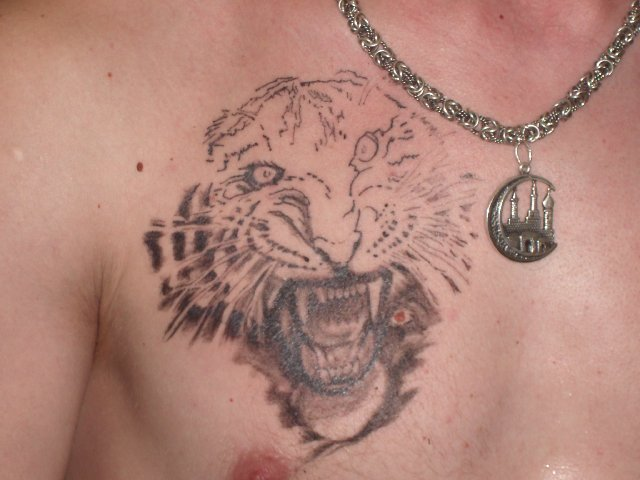tatu5_tigr: (145, 79, 469, 403)
